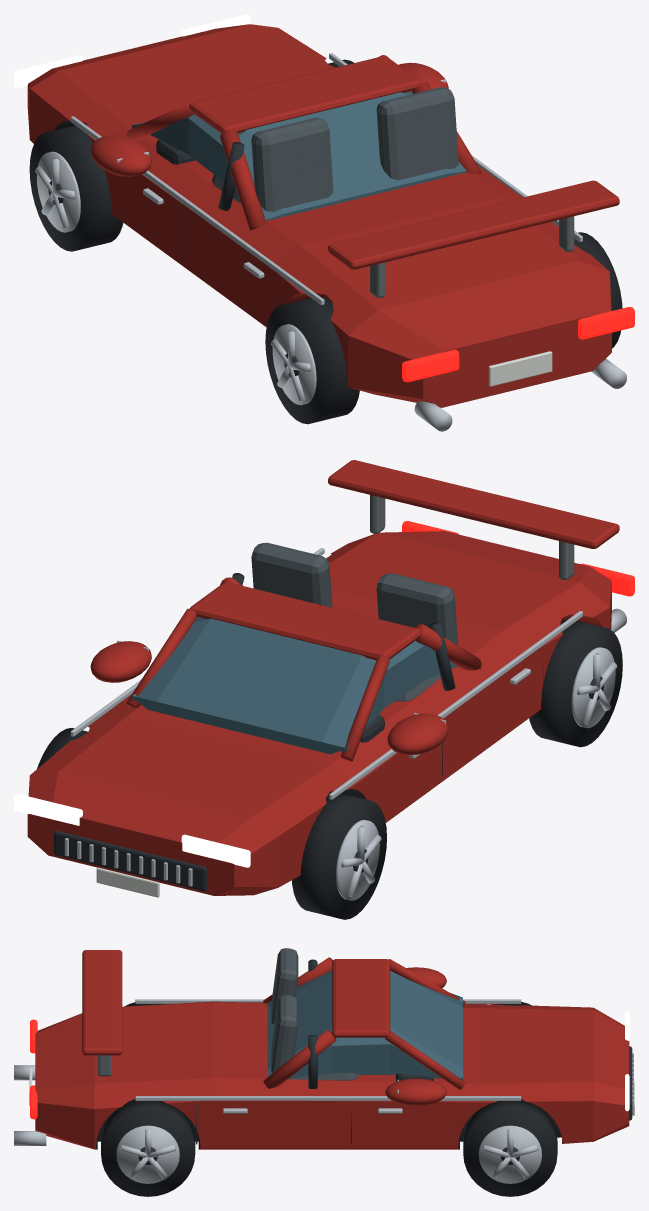
Rendered from mc_sport.glb.
3 renders of one model, top to bottom at view 1: azimuth 30°, elevation 25°; view 2: azimuth 150°, elevation 25°; view 3: azimuth 270°, elevation 25°, orthographic. The views are drawn at different scales.
Visible parts, largest first — view 1: mc_sport__Geometry, mc_sport__Wheel_L, mc_sport__Wheel_L.001, mc_sport__Wheel_R; view 2: mc_sport__Geometry, mc_sport__Wheel_L.001, mc_sport__Wheel_L; view 3: mc_sport__Geometry, mc_sport__Wheel_R.001, mc_sport__Wheel_R.
Boxes of the visible parts, box(x1,y1,x2,y2) form: mc_sport__Geometry: box(14, 14, 634, 431); mc_sport__Wheel_L: box(265, 296, 359, 424); mc_sport__Wheel_L.001: box(29, 124, 123, 251); mc_sport__Wheel_R: box(574, 232, 622, 348); mc_sport__Geometry: box(14, 460, 634, 900); mc_sport__Wheel_L.001: box(292, 792, 386, 919); mc_sport__Wheel_L: box(529, 619, 622, 747); mc_sport__Geometry: box(14, 948, 634, 1183); mc_sport__Wheel_R.001: box(463, 1100, 557, 1196); mc_sport__Wheel_R: box(101, 1100, 195, 1196).
Size of the model in its own units: 2.36 by 1.36 by 4.81.
Materials: 10 (2 with a texture image).
